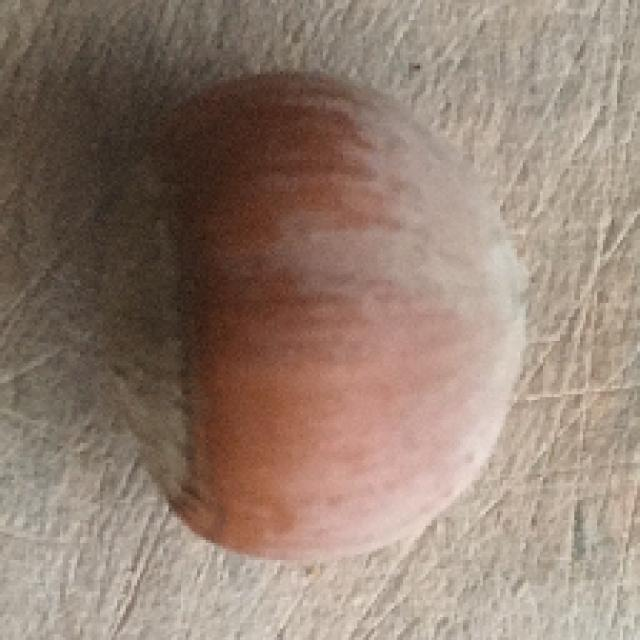QualityHazelnut: (90, 71, 528, 558)
